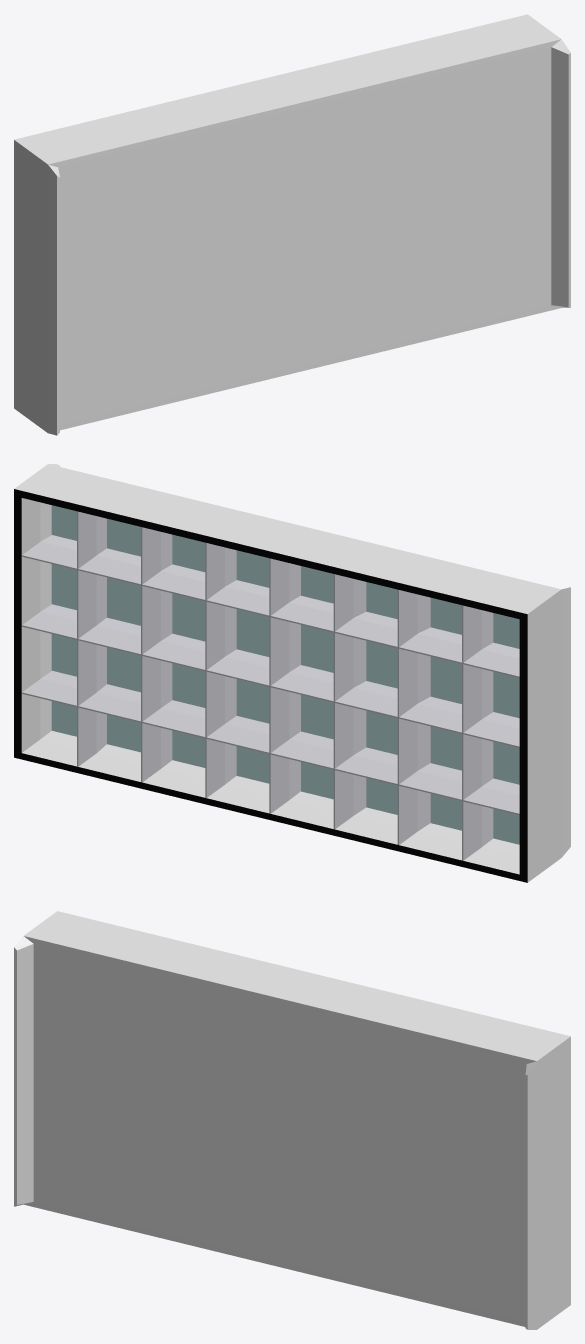
Rendered from RecessedLight.obj.
3 views of the same model, one above another, from view 1: azimuth 30°, elevation 25°; view 2: azimuth 150°, elevation 25°; view 3: azimuth 330°, elevation 25° (orthographic).
Visible parts, largest first — view 1: RecessedLayer_RecessedGeom; view 2: RecessedLayer_RecessedGeom; view 3: RecessedLayer_RecessedGeom.
Boxes of the visible parts, x1=… form: RecessedLayer_RecessedGeom: x1=14, y1=14, x2=570, y2=435; RecessedLayer_RecessedGeom: x1=14, y1=464, x2=570, y2=882; RecessedLayer_RecessedGeom: x1=14, y1=911, x2=570, y2=1329.
Bounding box in the file's own units: 1.22 × 0.6096 × 0.178.
